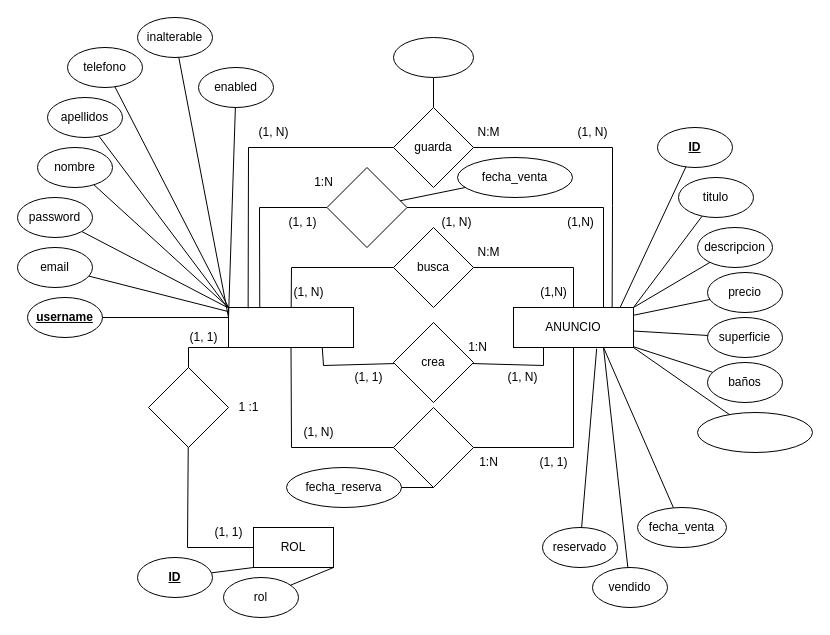
Some shapes in this 830 by 635 pixel diagram are drawn without their labels. Here are the shapes that lost their labels. From the top down, the centre of each, then its label:
point 433,57: favorito
point 366,207: vende
point 291,327: USUARIO
point 188,407: tiene
point 433,447: reserva
point 754,432: fecha_publicacion
